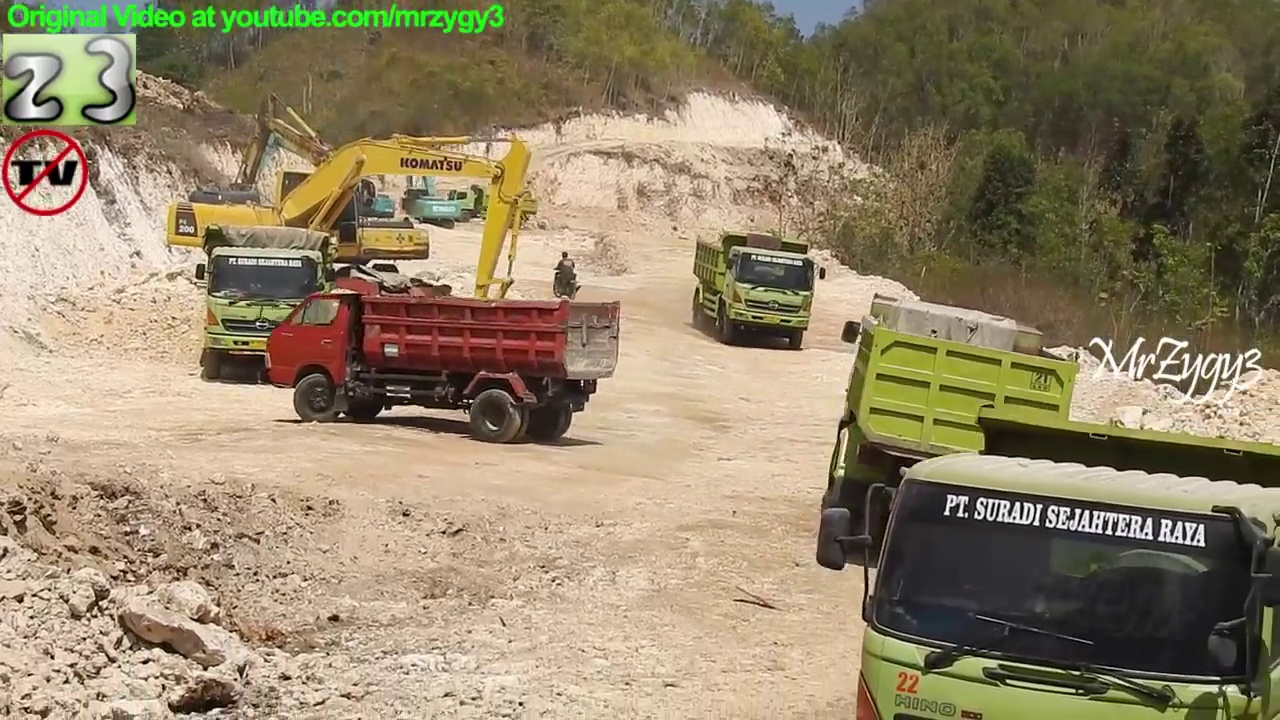excavator: (164, 127, 546, 348), (220, 95, 436, 293), (237, 127, 405, 268), (403, 134, 461, 233)
truck: (855, 396, 1275, 720), (823, 289, 1084, 564), (264, 271, 623, 447), (193, 223, 347, 389), (686, 228, 831, 357), (441, 183, 540, 230)
